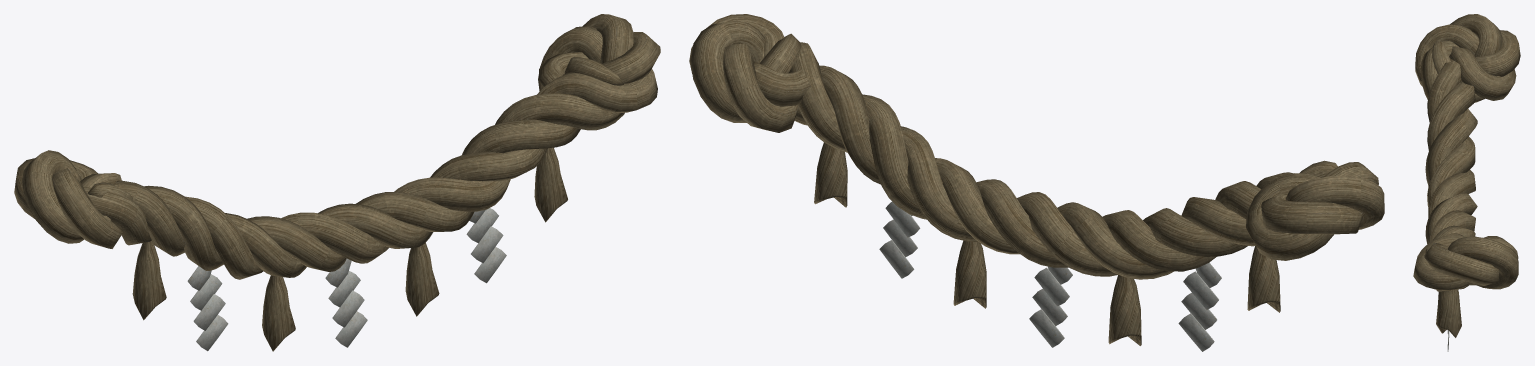
The model's file is Simenawa_Shrine.fbx.
3 renders of one model, left to right at view 1: azimuth 30°, elevation 25°; view 2: azimuth 150°, elevation 25°; view 3: azimuth 270°, elevation 25°, orthographic. The views are drawn at different scales.
Visible parts, largest first — view 1: Simenawa_Shrine; view 2: Simenawa_Shrine; view 3: Simenawa_Shrine.
Part boxes in pixels (bbox=[...]): Simenawa_Shrine: bbox=[14, 14, 660, 351]; Simenawa_Shrine: bbox=[689, 14, 1384, 351]; Simenawa_Shrine: bbox=[1413, 14, 1520, 351].
Size of the model in its own units: 4.86 by 1.81 by 0.9013.
